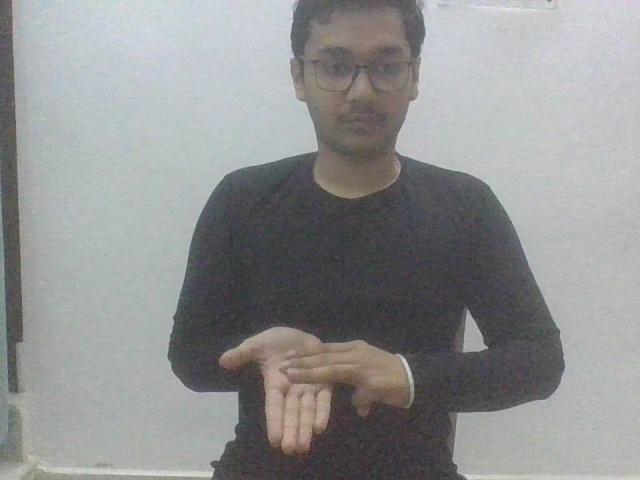M: (215, 323, 418, 455)
